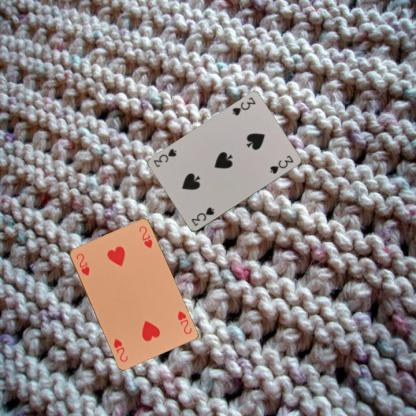2h: (174, 308, 193, 335), (73, 251, 91, 278)
3s: (188, 204, 216, 228), (229, 95, 257, 117)
